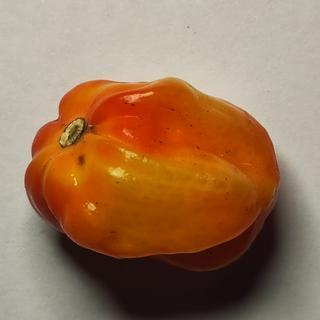Defect: (57, 117, 88, 150)
Fly-bites: (75, 154, 94, 172), (123, 98, 140, 112), (194, 144, 206, 157)
